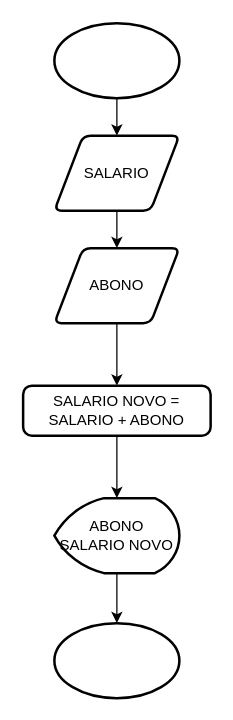
Image size: 233x720. Some labels were removed from this diagram. The shapes that lost their labels are listed below. From the top down, each one's centre as x and y in pixels, then its label:
At point (116, 60): "INICIO".
At point (116, 660): "FIM".
